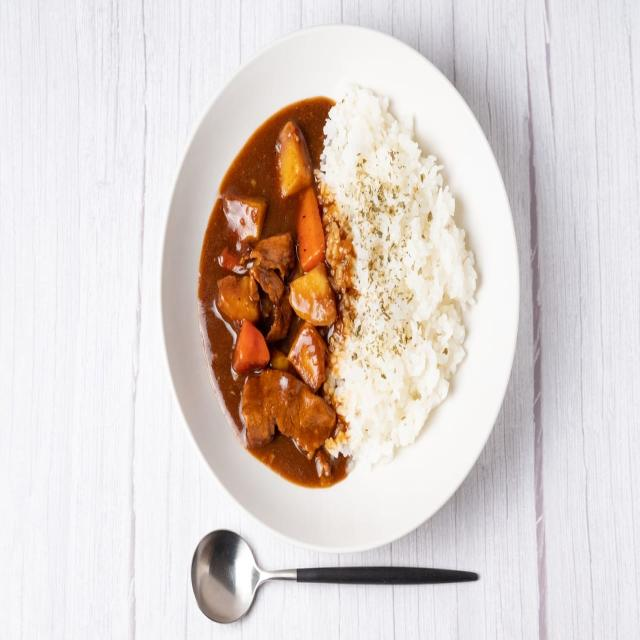Carbohydrate: (330, 84, 478, 474)
Curry: (192, 48, 512, 540)
Protein: (240, 367, 334, 462), (250, 232, 294, 340)
Vegetable: (276, 119, 338, 387), (215, 188, 272, 372)
